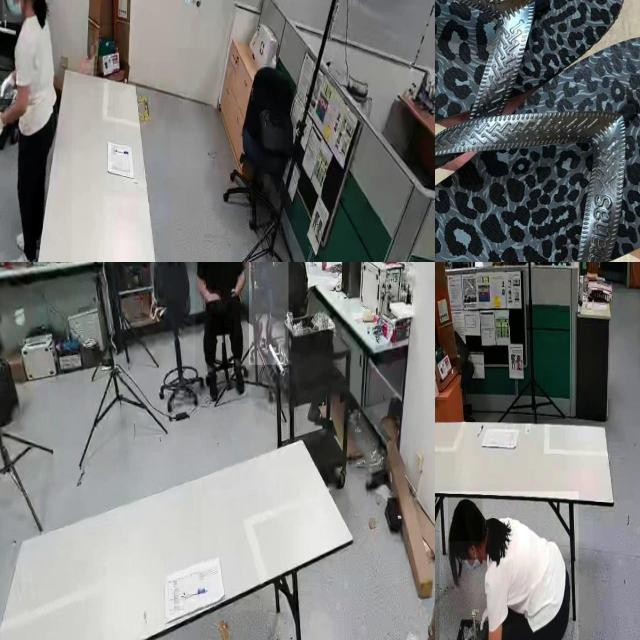Sandals: (435, 0, 640, 262)
face_mask: (2, 0, 23, 22)
hand_glove: (0, 71, 17, 98), (0, 105, 7, 147)
hand_noglove: (204, 290, 221, 304), (228, 285, 242, 299)
head_nohelmet: (448, 498, 483, 542)
person: (439, 491, 578, 640), (0, 0, 72, 262), (195, 262, 248, 404), (249, 262, 289, 365)
shoes: (231, 358, 249, 404), (202, 365, 223, 401), (4, 246, 42, 262)
